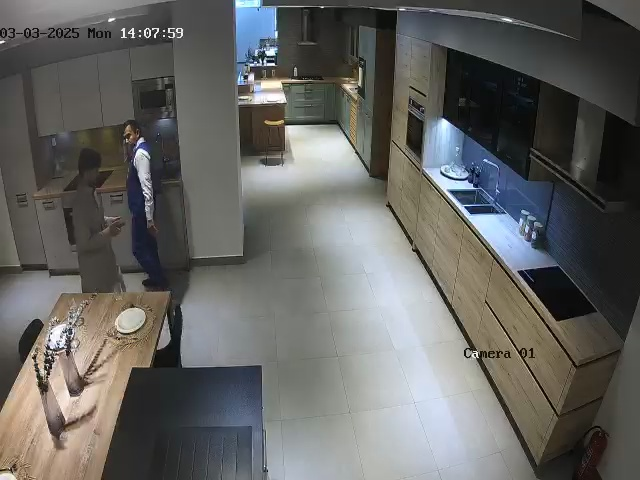employee: (122, 119, 169, 289)
male: (71, 148, 127, 293)
